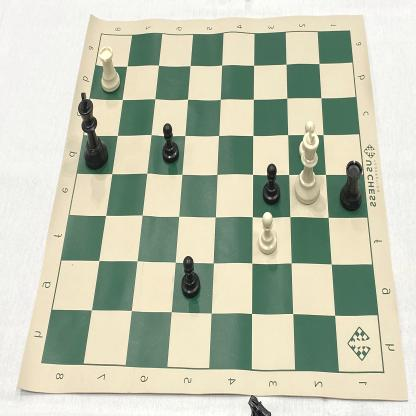black-king: (76, 86, 111, 176)
black-pawn: (177, 250, 205, 304), (158, 113, 183, 171), (260, 154, 284, 209)
black-rook: (336, 150, 372, 214)
white-king: (291, 126, 329, 209)
white-pawn: (252, 210, 280, 259), (295, 118, 321, 165)
white-rook: (97, 42, 124, 99)
